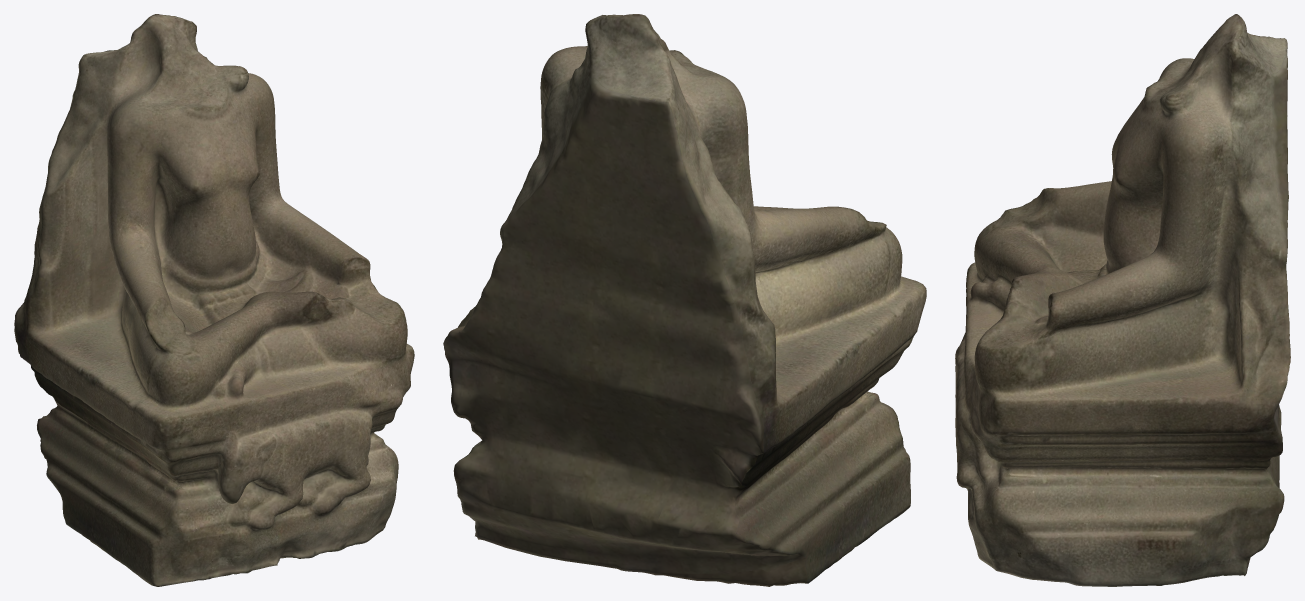
The model's file is 14_thanphuonghuong_agni_final.glb.
The picture shows the model from 3 angles, left to right: view 1: azimuth 30°, elevation 25°; view 2: azimuth 150°, elevation 25°; view 3: azimuth 270°, elevation 25°; orthographic projection. The views are drawn at different scales.
Bounding box in the file's own units: 0.329 × 0.534 × 0.3291.
Materials: 1 (1 with a texture image).
